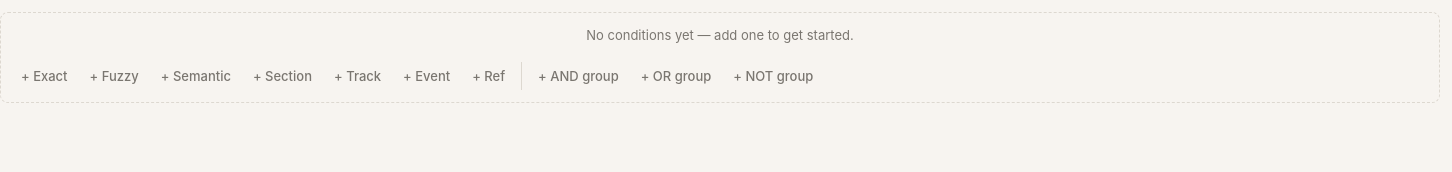
ConditionTreeEditor › adding a leaf from empty creates a root match node
Click the button "+ Fuzzy": (114, 76) [82, 62, 147, 90]
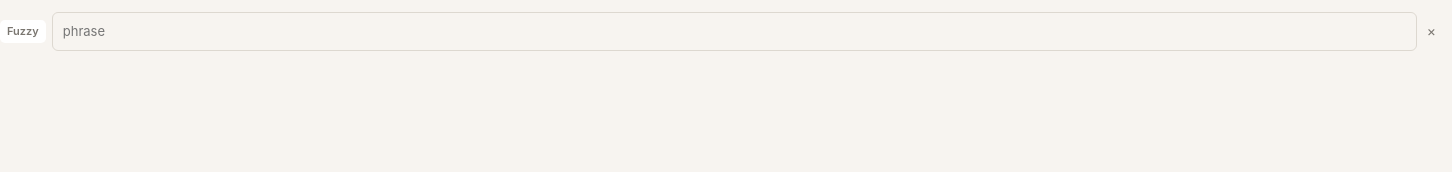
Expected: the text "Fuzzy" is shown, [0, 20, 46, 43]
Expected: the field with placeholder "phrase" is shown, [52, 12, 1417, 51]
